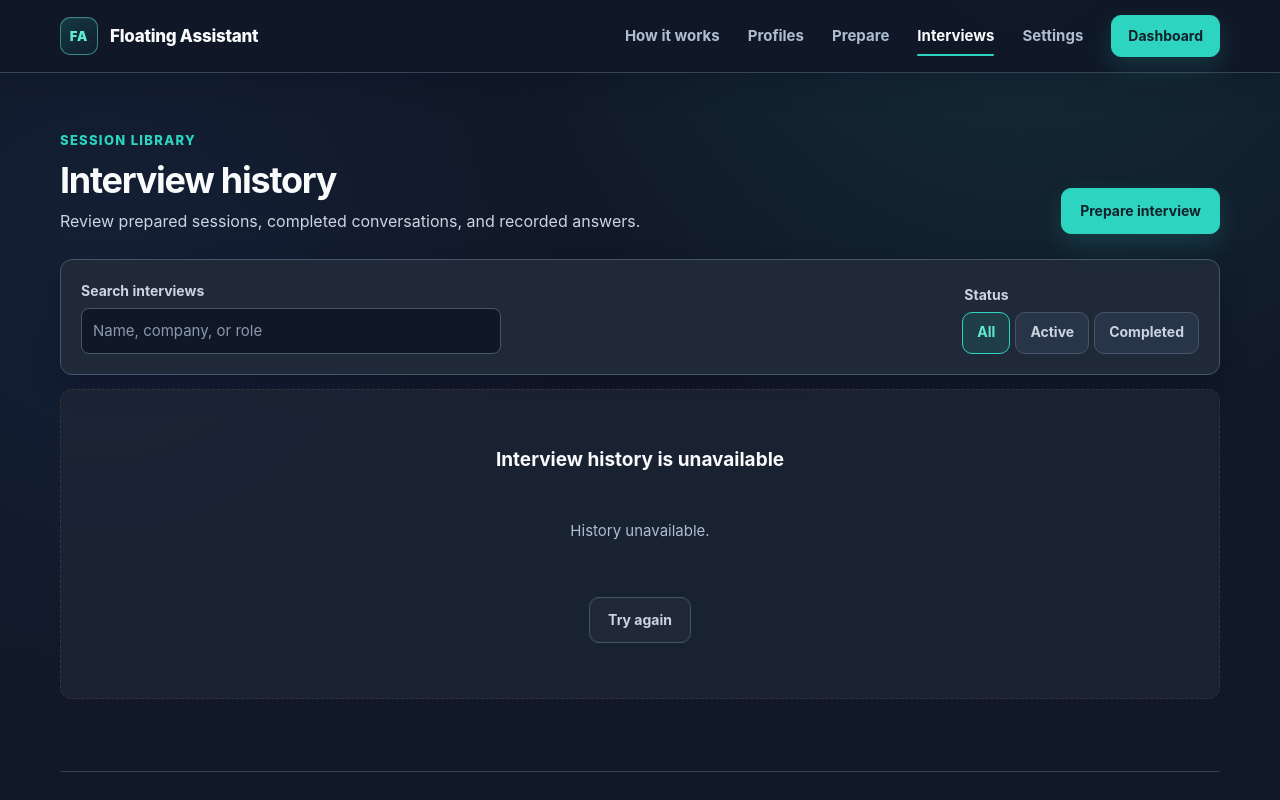
it: website routing and authentication › shows interview loading errors with a working retry action
What coordinates should you click on to do the following:
click the button "Try again"
I would click on:
 (640, 620)
Its box is [589,597,691,643].
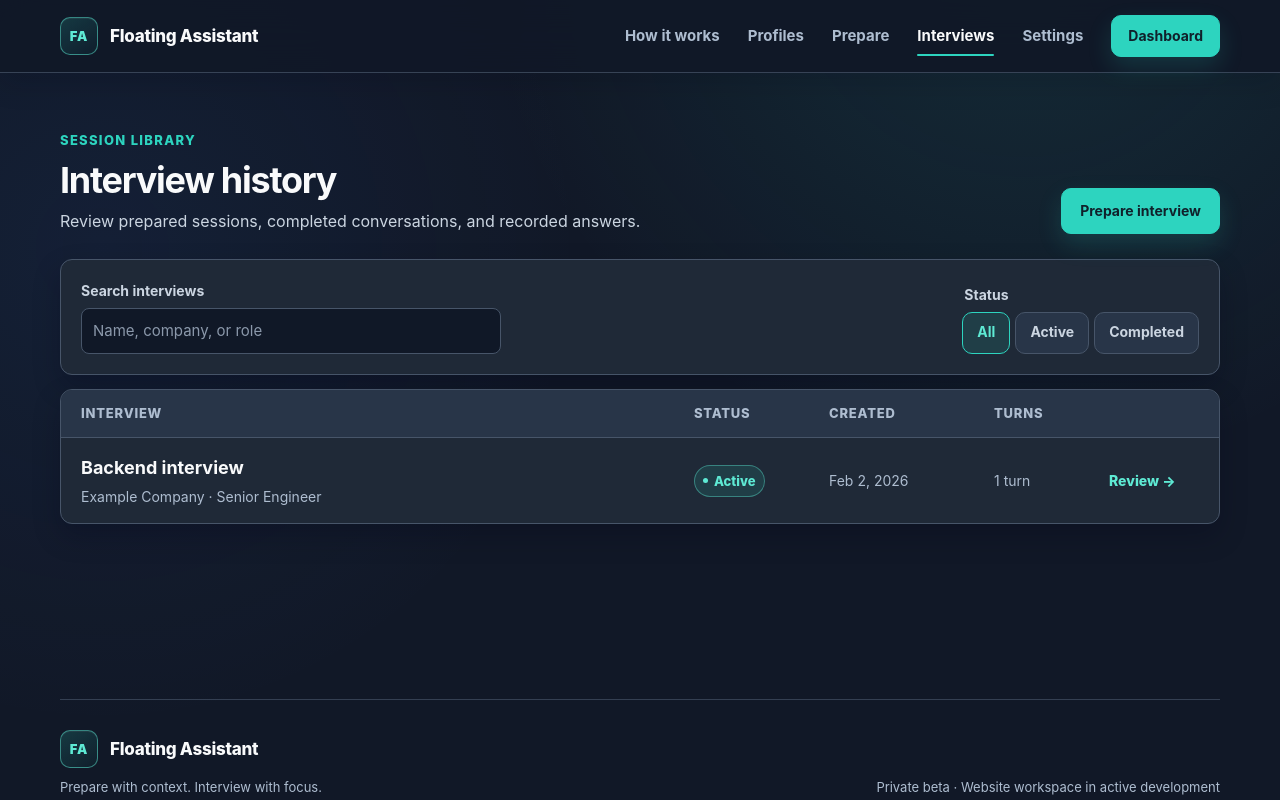
Now the link "Backend interview" is shown, box [81,457,244,478]
